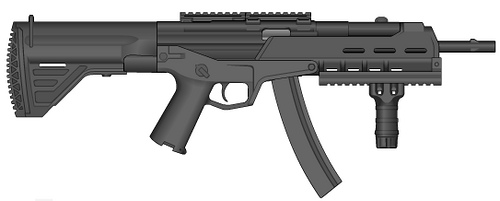rifle: (5, 13, 497, 196)
